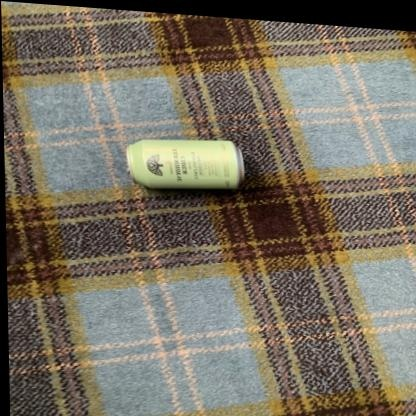trash: (127, 140, 243, 188)
